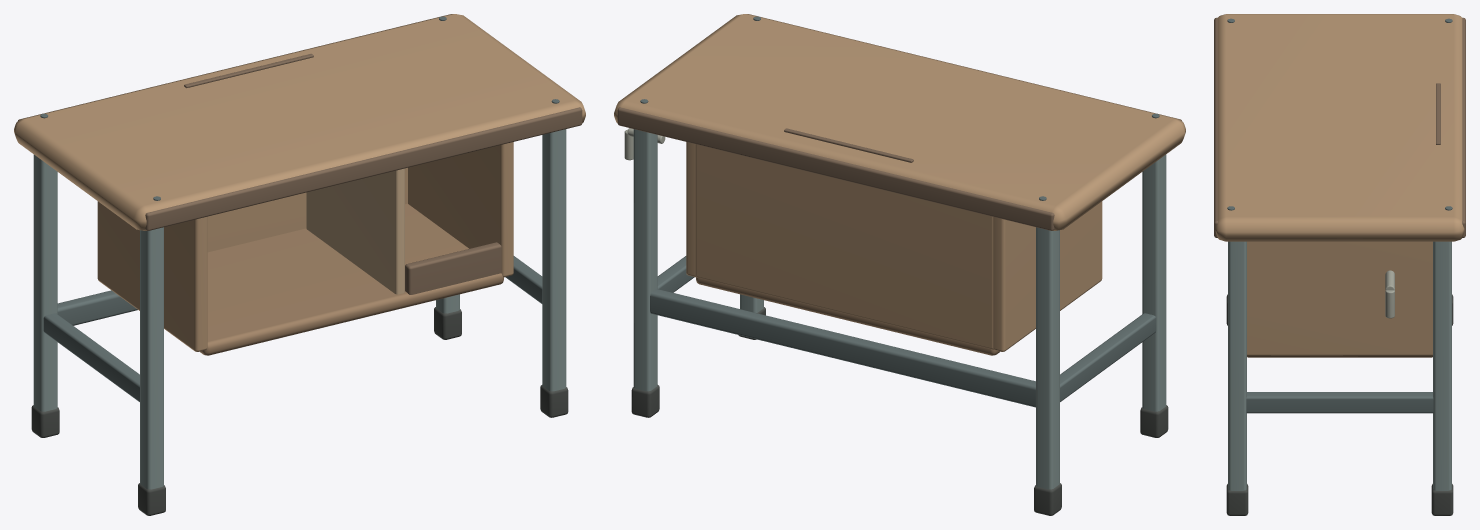
The model's file is classroom_student_desk.glb.
3 renders of one model, left to right at view 1: azimuth 30°, elevation 25°; view 2: azimuth 150°, elevation 25°; view 3: azimuth 270°, elevation 25°, orthographic. The views are drawn at different scales.
Visible parts, largest first — view 1: Desk_top_core, Bag_cubby_bottom, Bag_cubby_right_side, Bag_cubby_left_side, Bag_cubby_partition, Desk_front_edge_band, Desk_metal_leg.002, Desk_metal_leg, Desk_metal_leg.001, Bag_cubby_back, Notebook_slot_front_lip, Desk_side_stretcher (+6 smaller); view 2: Desk_top_core, Bag_cubby_back, Desk_rear_stretcher, Bag_cubby_left_side, Desk_back_edge_band, Desk_metal_leg.003, Desk_metal_leg.001, Desk_metal_leg, Desk_side_stretcher, Bag_cubby_bottom, Bag_cubby_right_side, Desk_leg_foot (+3 smaller); view 3: Desk_top_core, Bag_cubby_right_side, Desk_metal_leg.002, Desk_metal_leg.003, Desk_side_stretcher.001, Desk_back_edge_band, Desk_front_edge_band, Desk_leg_foot.002, Desk_leg_foot.003, Bag_cubby_bottom, Desk_pencil_groove.
Part boxes in pixels (bbox=[...]): Desk_top_core: bbox=[14, 14, 585, 230]; Bag_cubby_bottom: bbox=[200, 203, 503, 355]; Bag_cubby_right_side: bbox=[408, 142, 513, 277]; Bag_cubby_left_side: bbox=[97, 201, 207, 351]; Bag_cubby_partition: bbox=[306, 168, 404, 294]; Desk_front_edge_band: bbox=[145, 107, 582, 230]; Desk_metal_leg.002: bbox=[542, 129, 566, 391]; Desk_metal_leg: bbox=[140, 227, 163, 489]; Desk_metal_leg.001: bbox=[33, 154, 57, 411]; Bag_cubby_back: bbox=[207, 167, 407, 252]; Notebook_slot_front_lip: bbox=[405, 242, 501, 294]; Desk_side_stretcher: bbox=[43, 313, 139, 401]; Desk_top_core: bbox=[614, 14, 1185, 230]; Bag_cubby_back: bbox=[695, 144, 993, 349]; Desk_rear_stretcher: bbox=[650, 289, 1035, 407]; Bag_cubby_left_side: bbox=[993, 201, 1102, 351]; Desk_back_edge_band: bbox=[617, 107, 1054, 230]; Desk_metal_leg.003: bbox=[633, 129, 657, 391]; Desk_metal_leg.001: bbox=[1036, 227, 1059, 489]; Desk_metal_leg: bbox=[1142, 154, 1166, 411]; Desk_side_stretcher: bbox=[1060, 313, 1156, 401]; Bag_cubby_bottom: bbox=[696, 277, 999, 355]; Bag_cubby_right_side: bbox=[686, 142, 695, 277]; Desk_leg_foot: bbox=[1140, 405, 1168, 437]; Desk_top_core: bbox=[1215, 14, 1464, 241]; Bag_cubby_right_side: bbox=[1247, 241, 1432, 355]; Desk_metal_leg.002: bbox=[1228, 241, 1246, 490]; Desk_metal_leg.003: bbox=[1433, 241, 1451, 490]; Desk_side_stretcher.001: bbox=[1246, 392, 1433, 413]; Desk_back_edge_band: bbox=[1462, 17, 1465, 237]; Desk_front_edge_band: bbox=[1214, 17, 1217, 237]; Desk_leg_foot.002: bbox=[1226, 484, 1248, 515]; Desk_leg_foot.003: bbox=[1431, 484, 1453, 515]; Bag_cubby_bottom: bbox=[1247, 356, 1432, 357]; Desk_pencil_groove: bbox=[1436, 83, 1440, 144].
Bounding box in the file's own units: 1.26 × 0.804 × 0.602.
